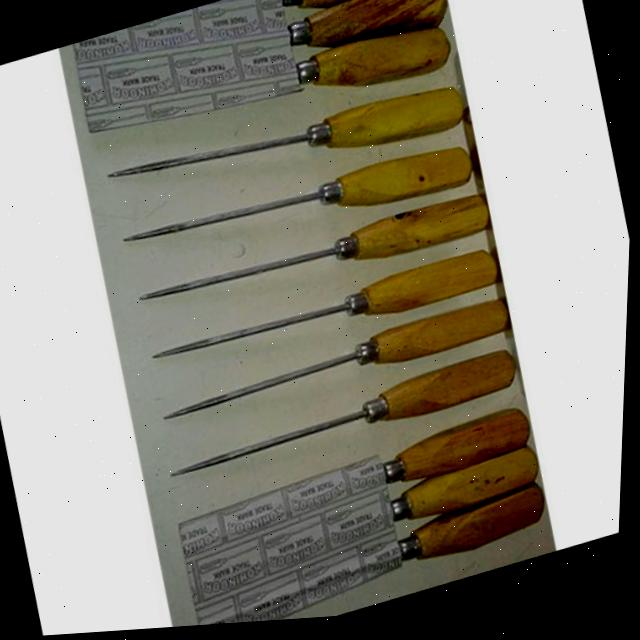ice pick: (81, 1, 456, 174), (183, 452, 551, 610), (106, 76, 467, 231), (175, 413, 540, 564), (123, 141, 479, 286), (193, 491, 558, 629), (134, 195, 493, 334), (169, 355, 526, 491), (149, 251, 503, 388), (74, 0, 448, 129), (161, 305, 512, 435), (72, 0, 437, 84)
